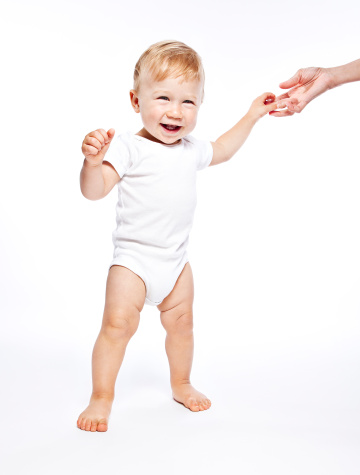em pe: (66, 37, 292, 424)
